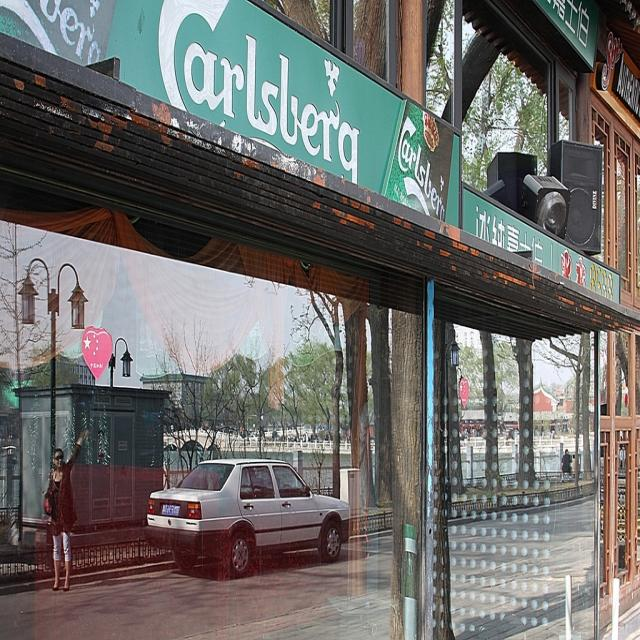carlsberg: (150, 2, 376, 189), (2, 2, 122, 69), (392, 109, 457, 222)
